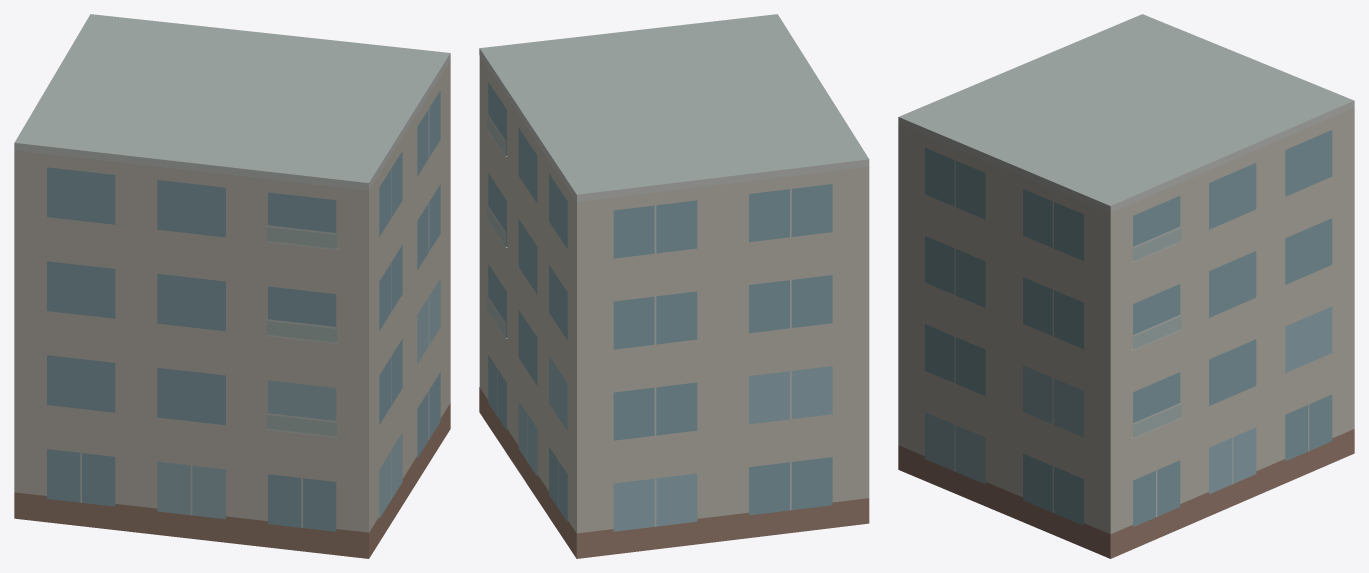
The model's file is survey-upis-32499145.glb.
3 views of the same model, side by side, from view 1: azimuth 30°, elevation 25°; view 2: azimuth 150°, elevation 25°; view 3: azimuth 270°, elevation 25° (orthographic). The views are drawn at different scales.
Parts seen in each view (by area): view 1: survey-upis-32499145.tmp; view 2: survey-upis-32499145.tmp; view 3: survey-upis-32499145.tmp.
Part boxes in pixels (x1,y1,x2,y2): survey-upis-32499145.tmp: (14,14,450,558); survey-upis-32499145.tmp: (479,14,869,558); survey-upis-32499145.tmp: (898,14,1354,558).
Bounding box in the file's own units: 14.25 × 12.2 × 14.3.
